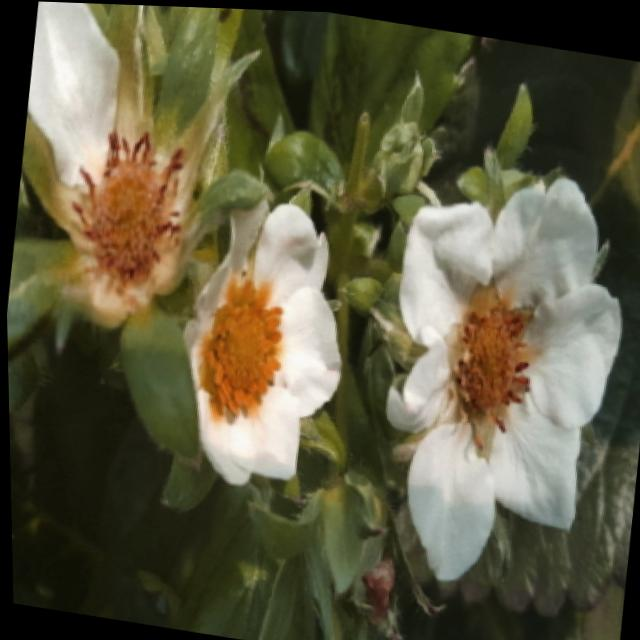Blossom Blight: (61, 122, 191, 303), (433, 268, 542, 460)
